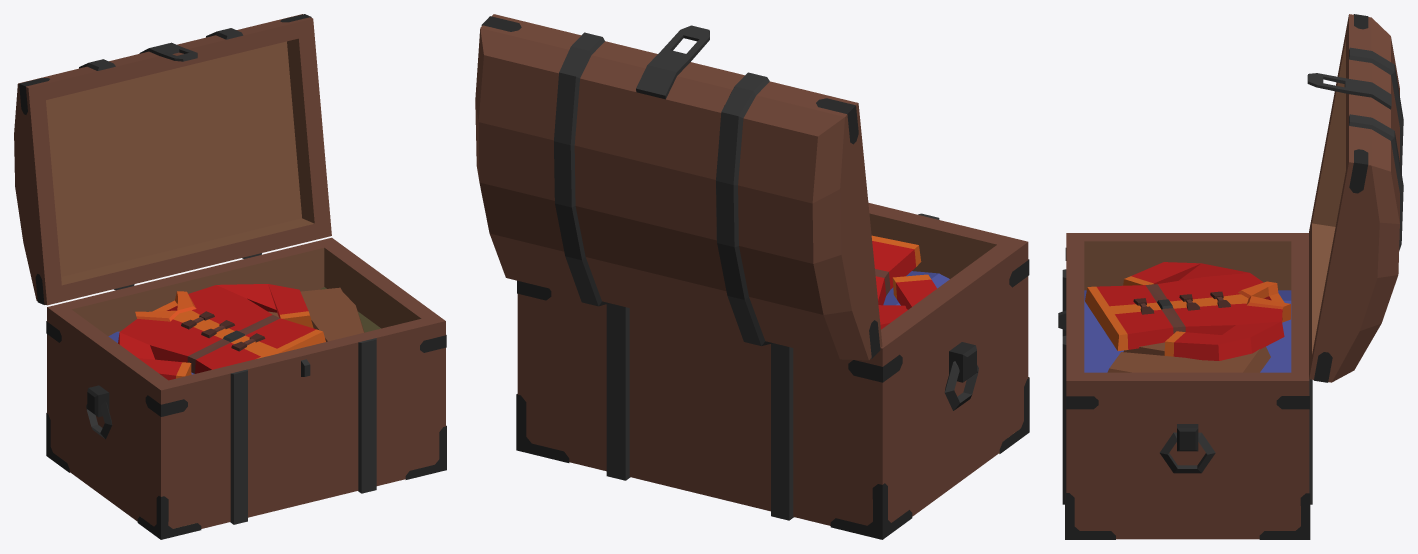
The model's file is chest_with_clothes.fbx.
3 views of the same model, side by side, from view 1: azimuth 30°, elevation 25°; view 2: azimuth 150°, elevation 25°; view 3: azimuth 270°, elevation 25° (orthographic). The views are drawn at different scales.
Parts seen in each view (by area): view 1: chest, chest_lid, clothes; view 2: chest_lid, chest, clothes; view 3: chest, chest_lid, clothes.
Part boxes in pixels (x1,y1,x2,y2): chest: (46, 237, 446, 539); chest_lid: (14, 14, 331, 305); clothes: (118, 284, 364, 380); chest_lid: (475, 14, 882, 360); chest: (516, 202, 1029, 539); clothes: (871, 235, 936, 329); chest: (1058, 233, 1312, 539); chest_lid: (1307, 14, 1403, 382); clothes: (1085, 262, 1290, 372).
Size of the model in its own units: 78.92 by 89.63 by 71.87.
